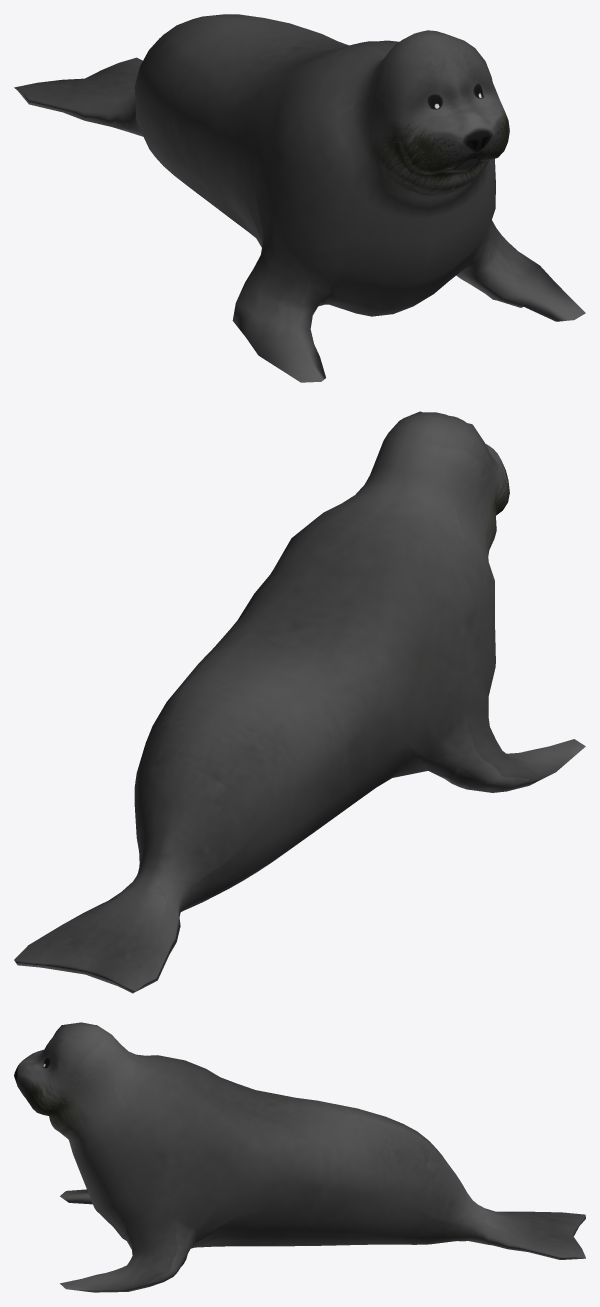
File: foca.glb
3 views of the same model, one above another, from view 1: azimuth 30°, elevation 25°; view 2: azimuth 150°, elevation 25°; view 3: azimuth 270°, elevation 25° (orthographic). The views are drawn at different scales.
Parts seen in each view (by area): view 1: Barbuda_full_UV_done3:Group3; view 2: Barbuda_full_UV_done3:Group3; view 3: Barbuda_full_UV_done3:Group3.
Boxes of the visible parts, x1,y1,x2,y2 form: Barbuda_full_UV_done3:Group3: [14, 14, 585, 382]; Barbuda_full_UV_done3:Group3: [14, 411, 585, 993]; Barbuda_full_UV_done3:Group3: [14, 1022, 585, 1292].
Size of the model in its own units: 1.51 by 1.52 by 3.57.
Materials: 1 (1 with a texture image).
